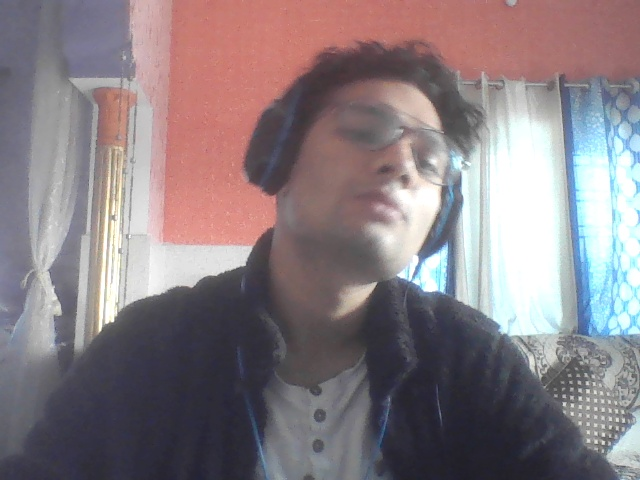real: (282, 39, 450, 277)
